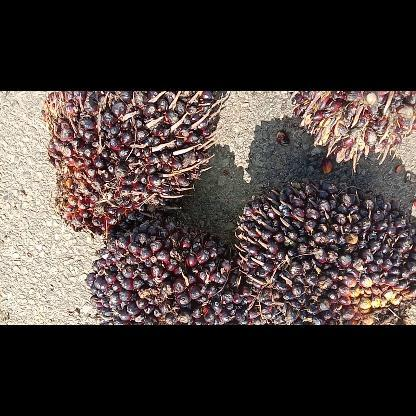TBS mentah: (41, 91, 225, 235), (235, 178, 415, 324), (87, 220, 283, 324), (288, 90, 414, 172)
